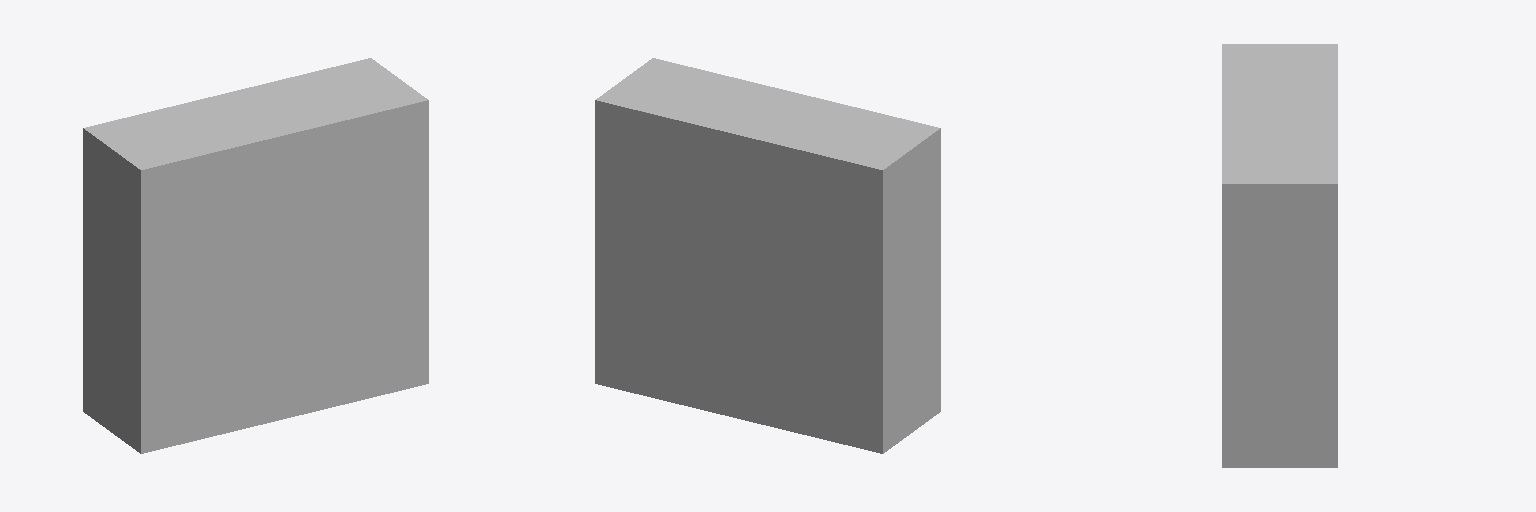
The model's file is icub_simple_collision_l_hand.obj.
The picture shows the model from 3 angles: view 1: azimuth 30°, elevation 25°; view 2: azimuth 150°, elevation 25°; view 3: azimuth 270°, elevation 25°; orthographic projection.
Visible parts, largest first — view 1: l_hand_mesh_Cube.001; view 2: l_hand_mesh_Cube.001; view 3: l_hand_mesh_Cube.001.
Part boxes in pixels (x1,y1,x2,y2): l_hand_mesh_Cube.001: (83,58,428,453); l_hand_mesh_Cube.001: (595,58,940,453); l_hand_mesh_Cube.001: (1222,44,1337,467).
Size of the model in its own units: 0.069 by 0.065 by 0.024.